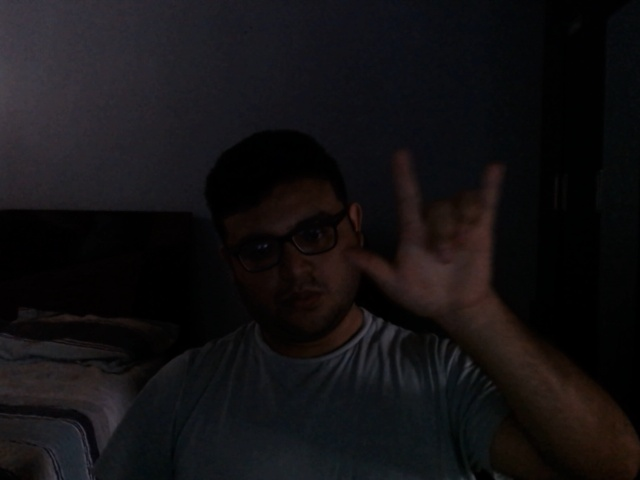I love you: (347, 142, 511, 326)
